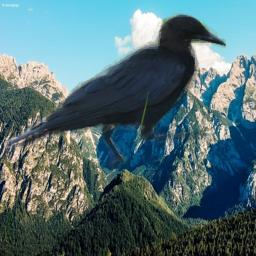Crow: (5, 13, 226, 170)
